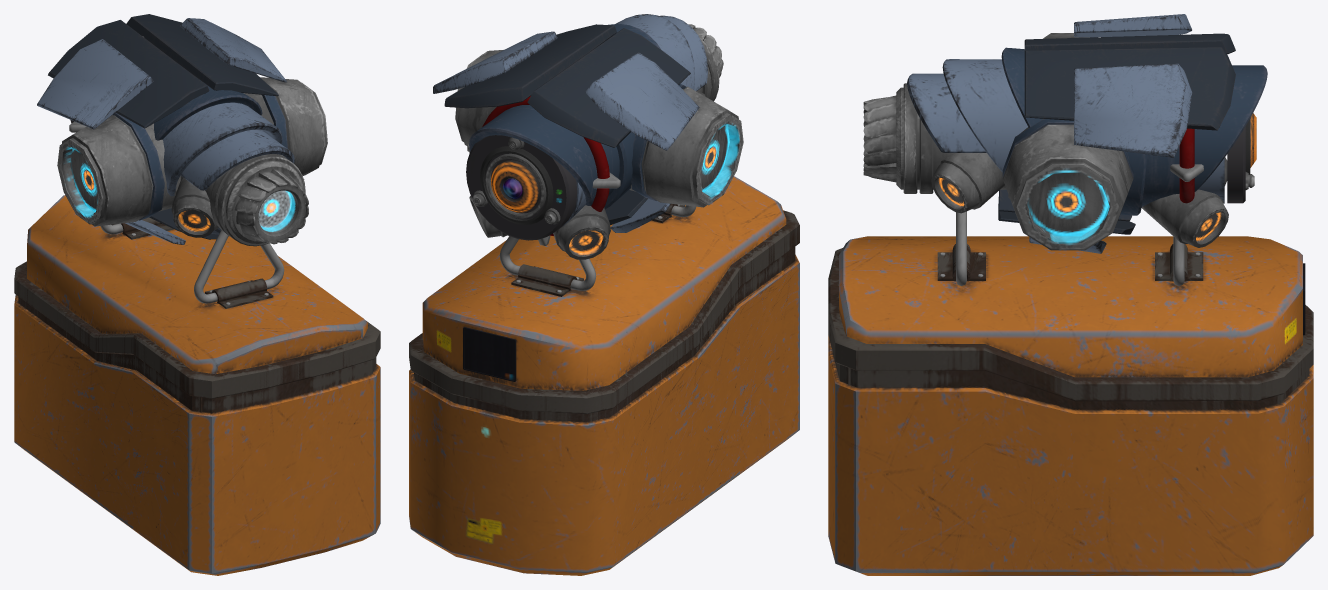
The model's file is forgecore_drone.glb.
The picture shows the model from 3 angles, left to right: view 1: azimuth 30°, elevation 25°; view 2: azimuth 150°, elevation 25°; view 3: azimuth 270°, elevation 25°; orthographic projection. The views are drawn at different scales.
Visible parts, largest first — view 1: Object_2, Object_3, Object_4; view 2: Object_2, Object_3, Object_4; view 3: Object_2, Object_3, Object_4.
Boxes of the visible parts, box(x1,y1,x2,y2) form: Object_2: box(14, 195, 380, 575); Object_3: box(57, 36, 327, 246); Object_4: box(37, 14, 286, 244); Object_2: box(409, 176, 799, 575); Object_3: box(455, 14, 743, 259); Object_4: box(433, 24, 699, 232); Object_2: box(828, 211, 1313, 575); Object_3: box(863, 33, 1267, 250); Object_4: box(998, 14, 1235, 253).
Size of the model in its own units: 33.32 by 58.06 by 52.5.
Materials: 3 (3 with a texture image).
